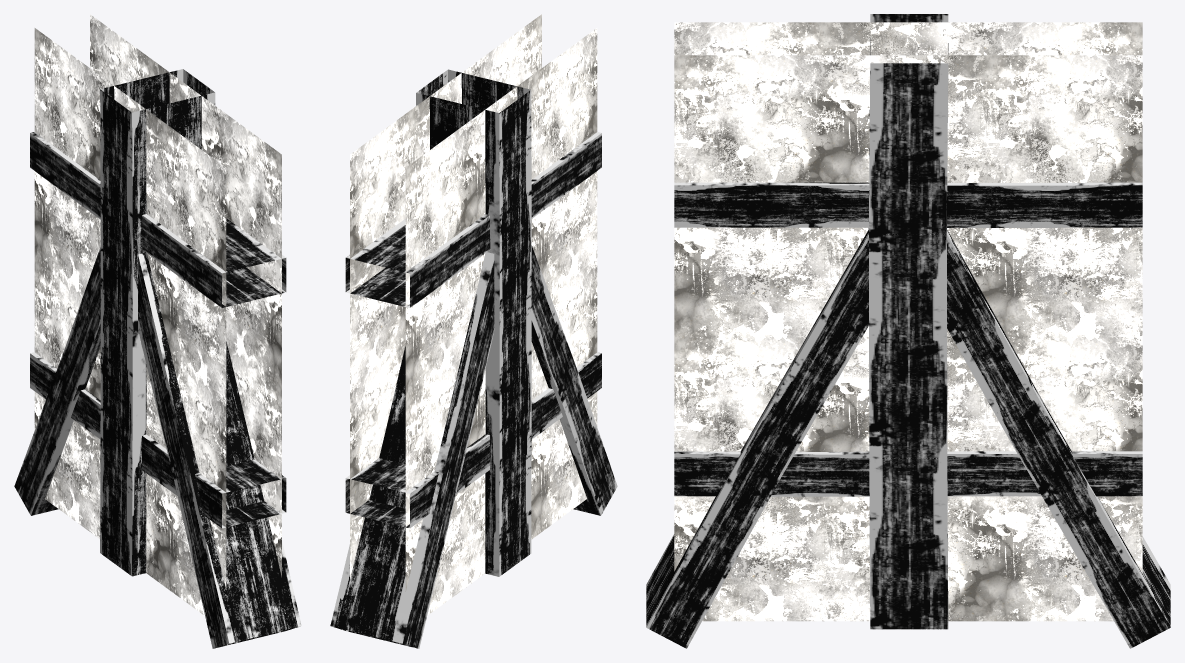
Rendered from SM_wall_A_3x4_02_03.fbx.
3 renders of one model, left to right at view 1: azimuth 30°, elevation 25°; view 2: azimuth 150°, elevation 25°; view 3: azimuth 270°, elevation 25°, orthographic. The views are drawn at different scales.
Parts seen in each view (by area): view 1: SM_wall_A_3x4_02_03_LOD0; view 2: SM_wall_A_3x4_02_03_LOD0; view 3: SM_wall_A_3x4_02_03_LOD0.
Part boxes in pixels (box(x1,y1,x2,y2)): SM_wall_A_3x4_02_03_LOD0: box(14, 14, 301, 648); SM_wall_A_3x4_02_03_LOD0: box(330, 14, 617, 648); SM_wall_A_3x4_02_03_LOD0: box(646, 14, 1170, 648).
Bounding box in the file's own units: 75 × 336 × 416.
3 materials, 3 textured.
